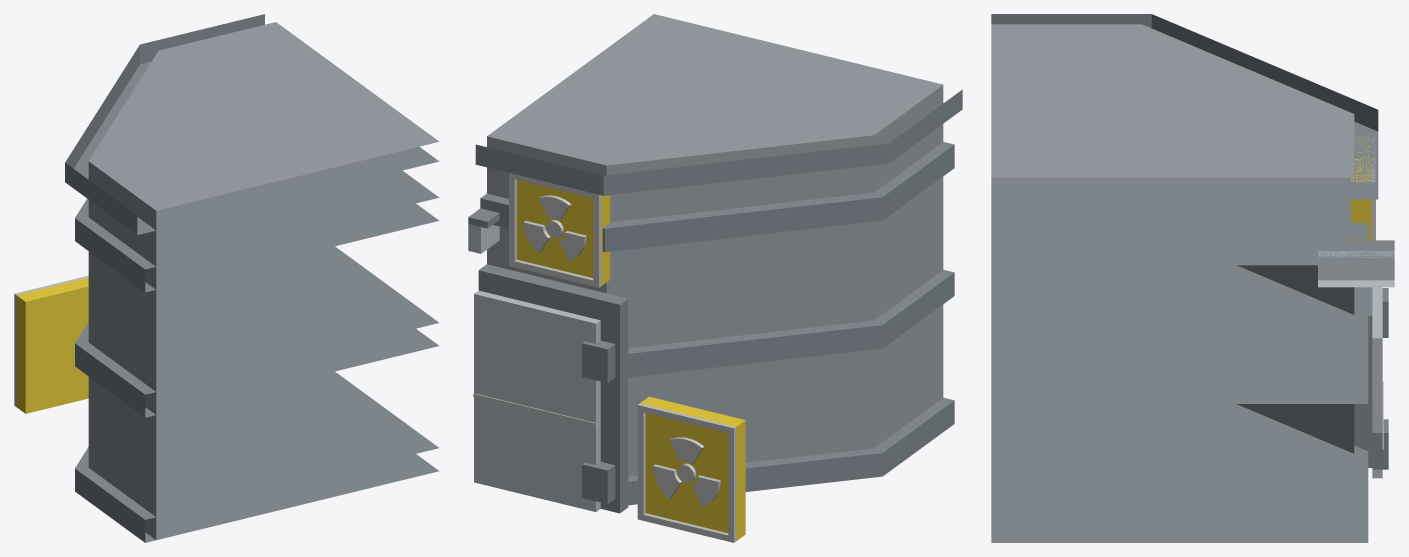
Rendered from cell_4.obj.
3 views of the same model, side by side, from view 1: azimuth 30°, elevation 25°; view 2: azimuth 150°, elevation 25°; view 3: azimuth 270°, elevation 25° (orthographic). The views are drawn at different scales.
Bounding box in the file's own units: 0.96 × 1 × 1.
